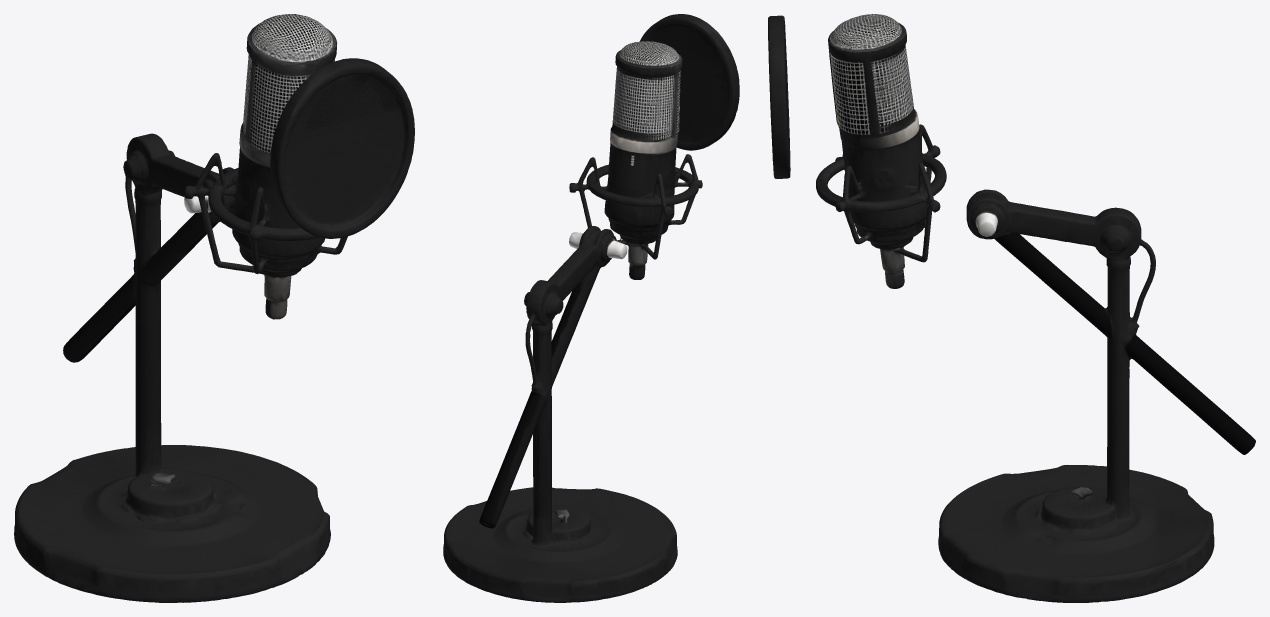
Rendered from mic.glb.
The picture shows the model from 3 angles, left to right: view 1: azimuth 30°, elevation 25°; view 2: azimuth 150°, elevation 25°; view 3: azimuth 270°, elevation 25°; orthographic projection. The views are drawn at different scales.
Size of the model in its own units: 0.9143 by 1.91 by 1.61.
Materials: 1 (1 with a texture image).
